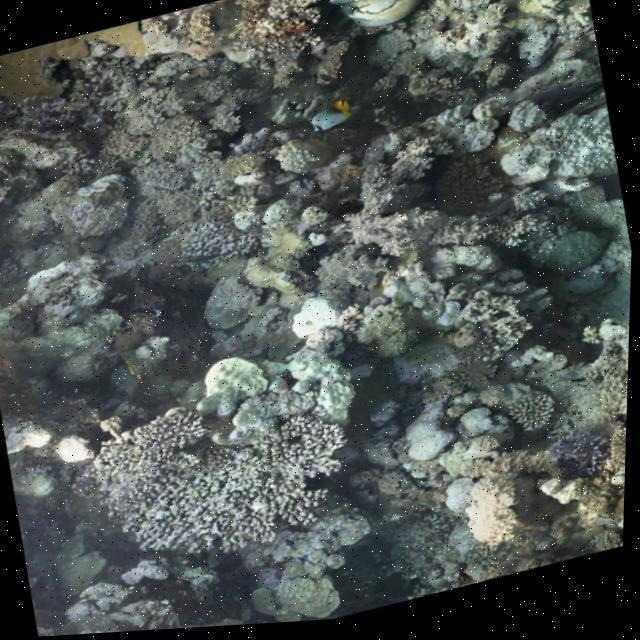Bleached Coral: (68, 388, 346, 577)
